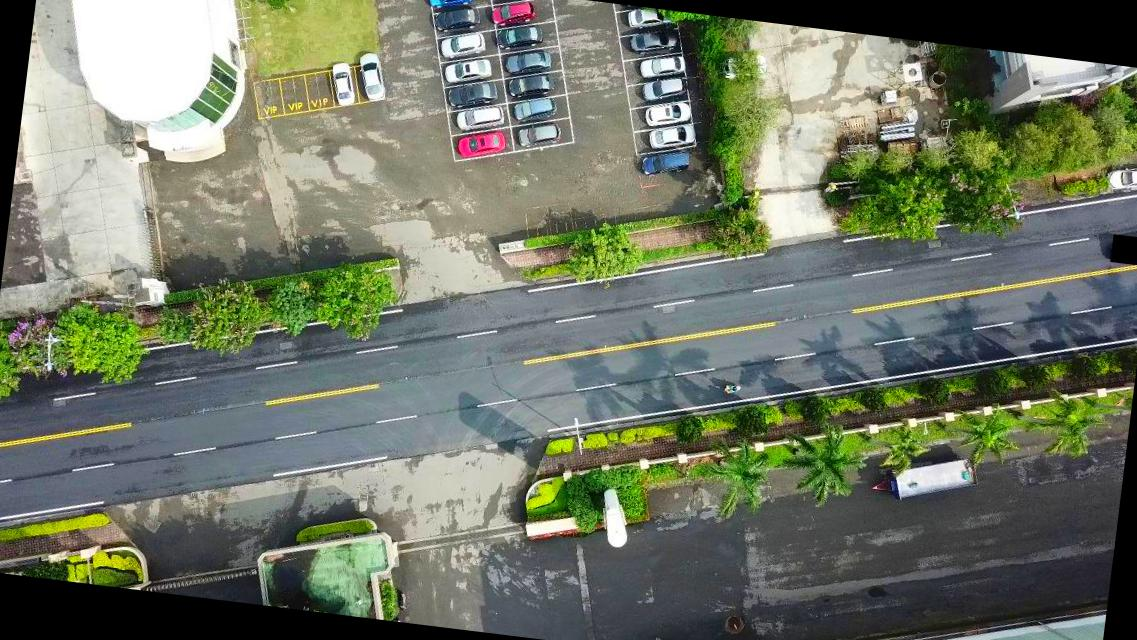vehicle: (636, 71, 690, 106), (354, 49, 388, 102), (455, 126, 505, 162), (637, 49, 687, 85), (646, 118, 696, 154), (638, 147, 692, 180), (719, 47, 768, 83), (642, 95, 692, 130), (444, 80, 498, 112), (454, 100, 504, 134), (505, 68, 555, 102), (626, 25, 680, 56), (442, 54, 492, 87), (434, 2, 483, 35), (504, 46, 554, 78), (438, 28, 485, 62), (326, 59, 359, 107), (622, 6, 677, 34), (516, 118, 563, 150), (511, 92, 556, 122), (488, 0, 536, 28), (498, 21, 546, 48), (1107, 161, 1136, 192), (424, 0, 473, 11), (486, 0, 534, 5)
